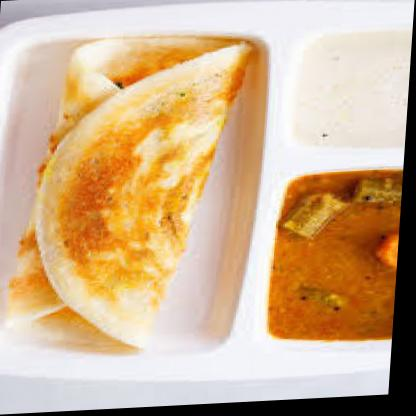dosa: (7, 33, 255, 362)
